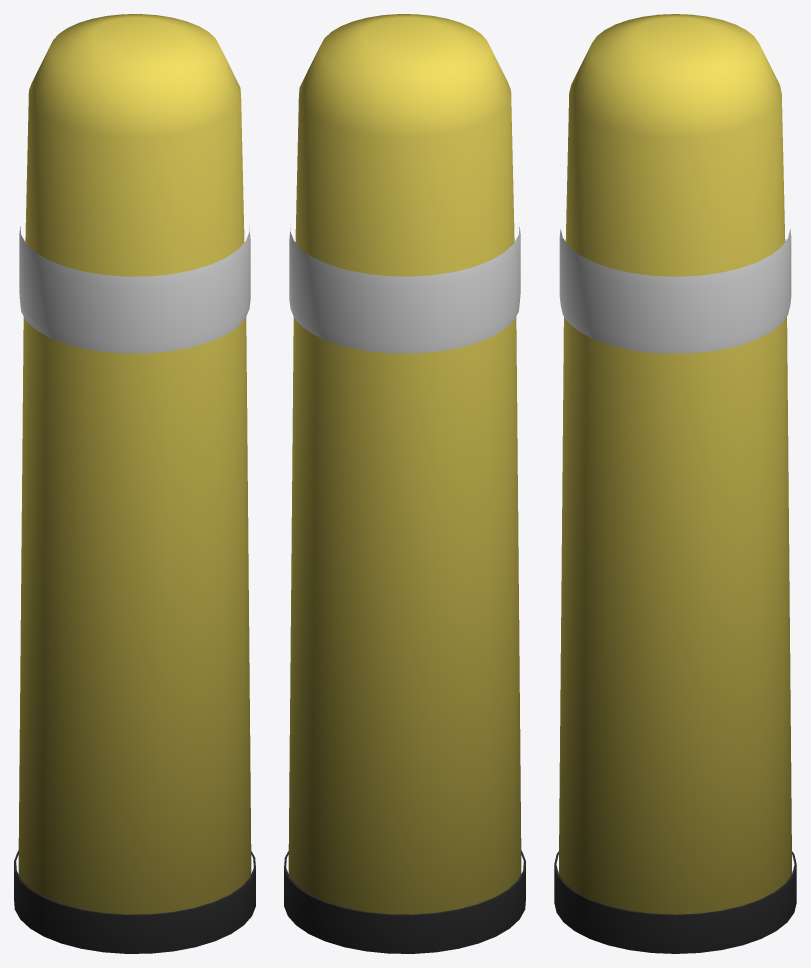
The model's file is bollard.glb.
3 views of the same model, side by side, from view 1: azimuth 30°, elevation 25°; view 2: azimuth 150°, elevation 25°; view 3: azimuth 270°, elevation 25° (orthographic).
Parts seen in each view (by area): view 1: p_bollard; view 2: p_bollard; view 3: p_bollard.
Part boxes in pixels (box(x1,y1,x2,y2)): p_bollard: box(14, 14, 255, 953); p_bollard: box(284, 14, 525, 953); p_bollard: box(554, 14, 796, 953).
Bounding box in the file's own units: 0.228 × 0.9 × 0.228.
